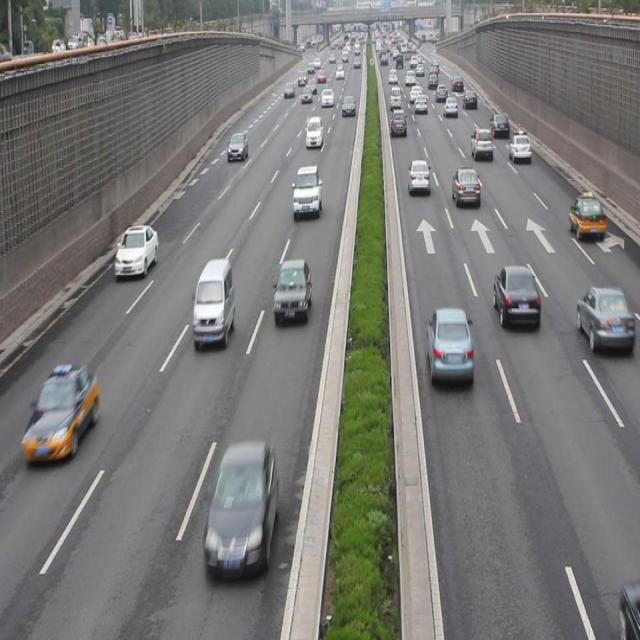car: (202, 440, 278, 577), (22, 365, 98, 465), (575, 284, 632, 356), (425, 306, 474, 385), (492, 260, 540, 330), (272, 258, 310, 324), (114, 222, 158, 278), (567, 192, 604, 242), (291, 166, 322, 219), (451, 165, 480, 208), (468, 127, 493, 162), (407, 156, 428, 195), (227, 130, 248, 162), (507, 132, 529, 160), (304, 116, 322, 148), (489, 110, 509, 138), (391, 107, 406, 137)
truck: (192, 259, 235, 349)
